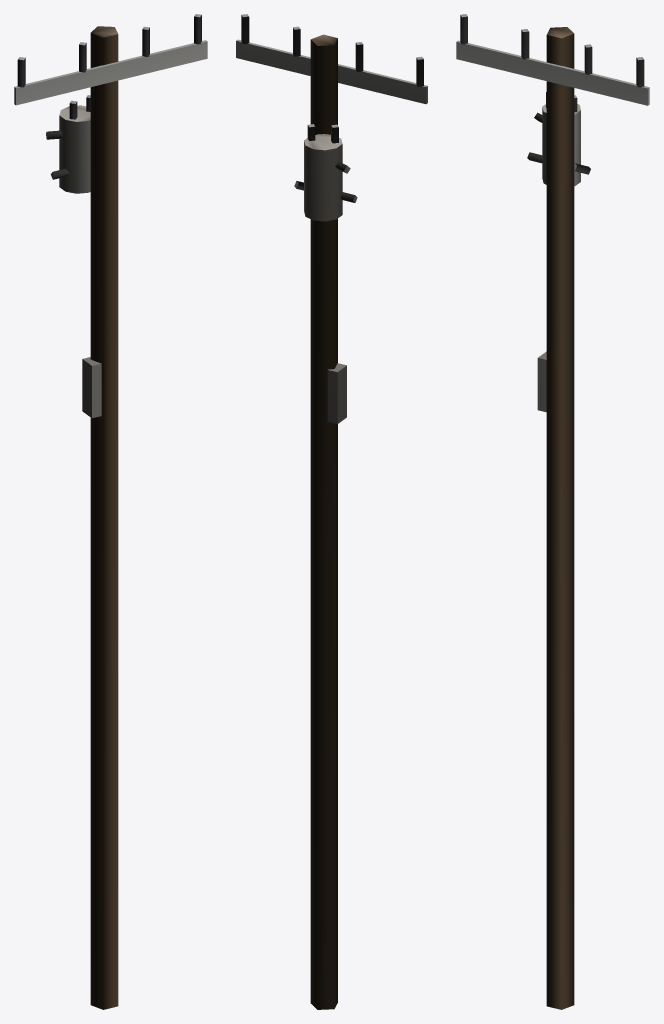
File: ElectricPole_Regular.fbx
The picture shows the model from 3 angles, left to right: view 1: azimuth 30°, elevation 25°; view 2: azimuth 150°, elevation 25°; view 3: azimuth 330°, elevation 25°; orthographic projection.
Parts seen in each view (by area): view 1: ElectricPole_Regular; view 2: ElectricPole_Regular; view 3: ElectricPole_Regular.
Boxes of the visible parts, left/top/right/bottom form: ElectricPole_Regular: left=14, top=14, right=207, bottom=1009; ElectricPole_Regular: left=236, top=14, right=427, bottom=1009; ElectricPole_Regular: left=456, top=14, right=649, bottom=1009.
Bounding box in the file's own units: 319 × 1547 × 93.26.
